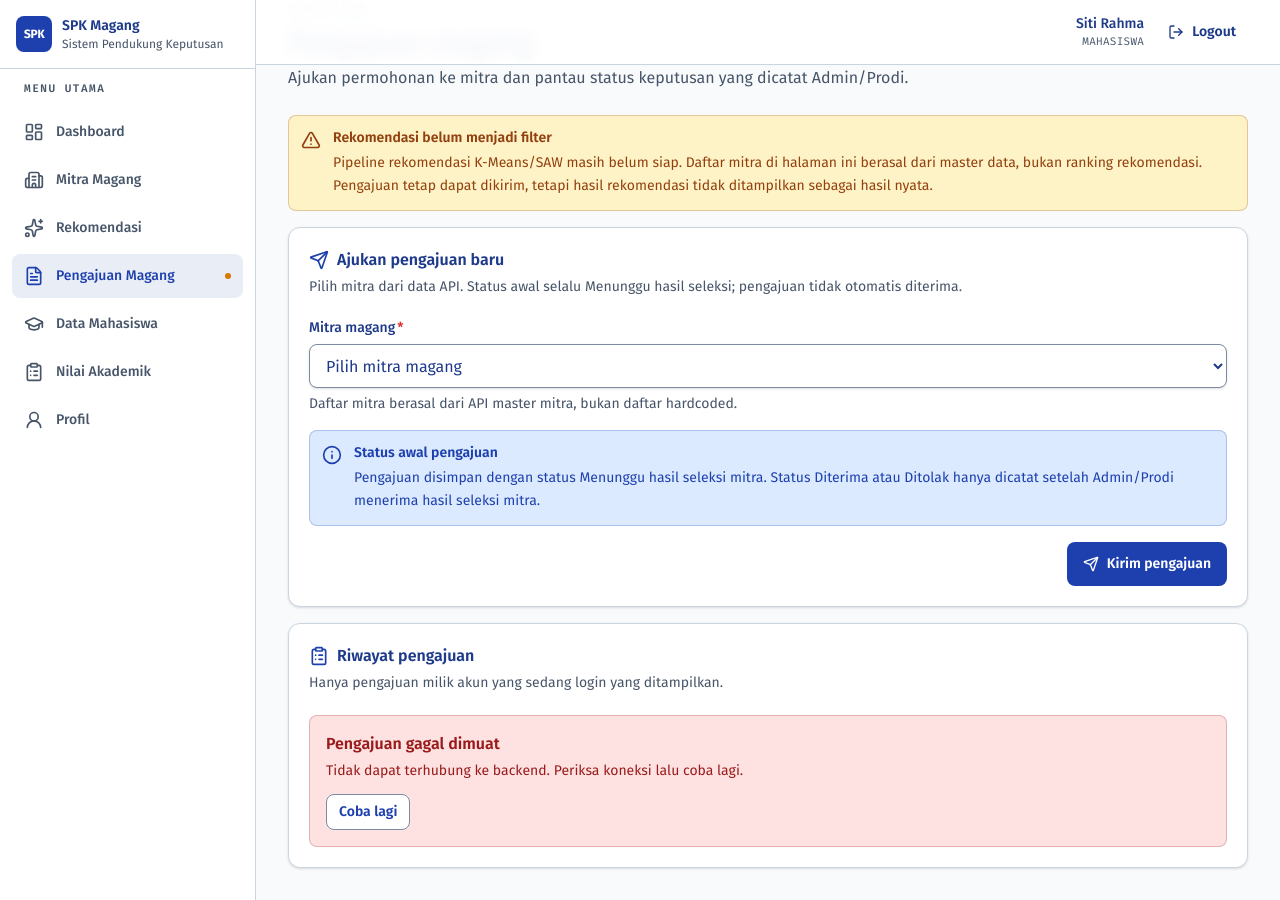
Scenario: StudentApplicationsPage › dapat memuat ulang daftar pengajuan setelah gagal
This screenshot has width=1280, height=900.
(page scrolled)
Expected: the text "Pengajuan gagal dimuat" is shown, x1=326 y1=734 x2=500 y2=752
What coordinates should you click on to do the following:
click the button "Coba lagi"
I would click on:
 (368, 812)
Its box is x1=326 y1=794 x2=410 y2=830.
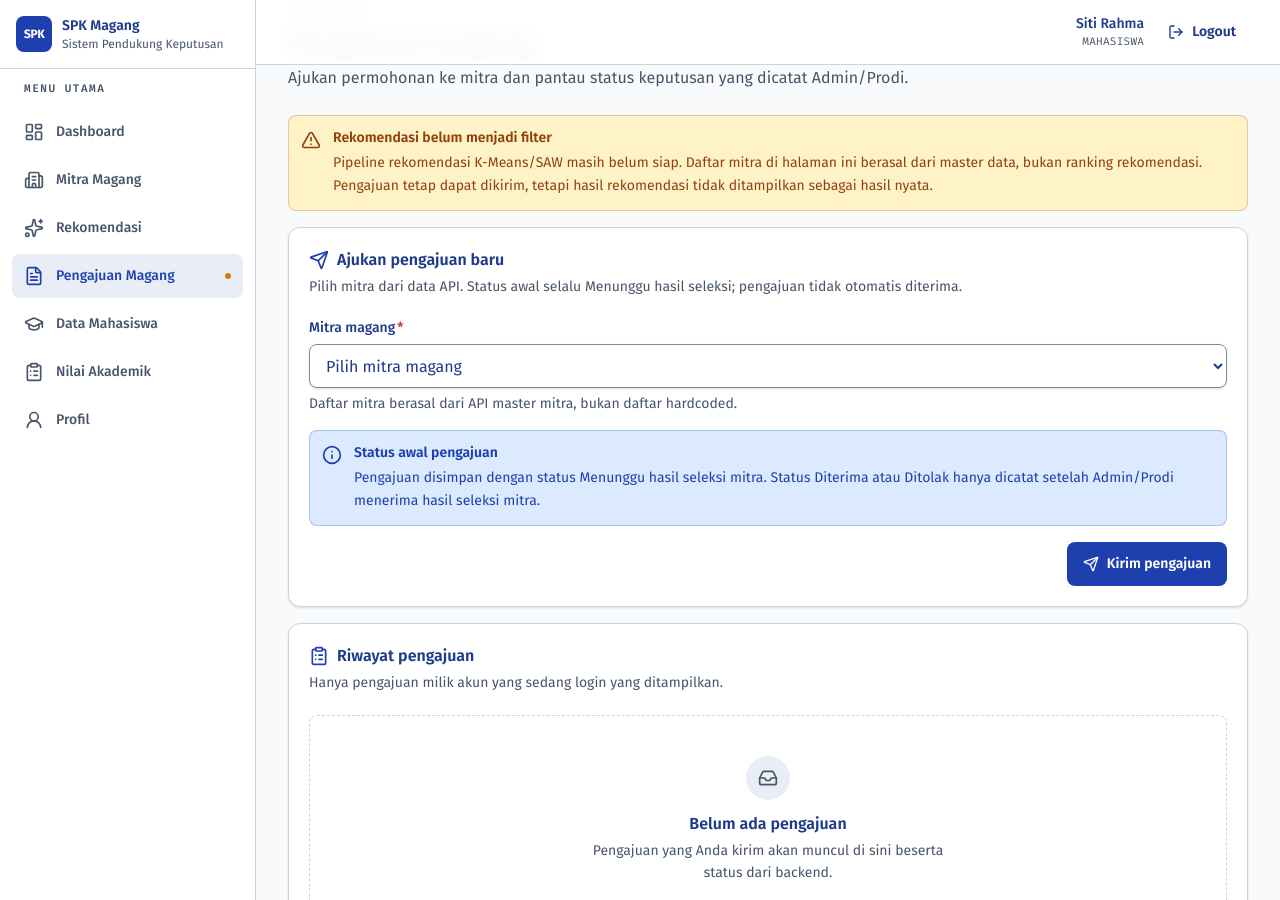
Now the text "Belum ada pengajuan" is shown, box x1=689 y1=812 x2=847 y2=836
